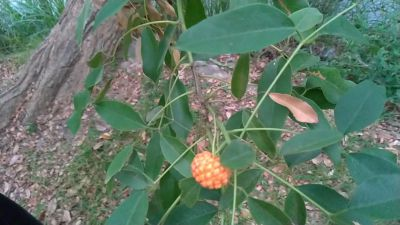eggs: (195, 151, 230, 188)
